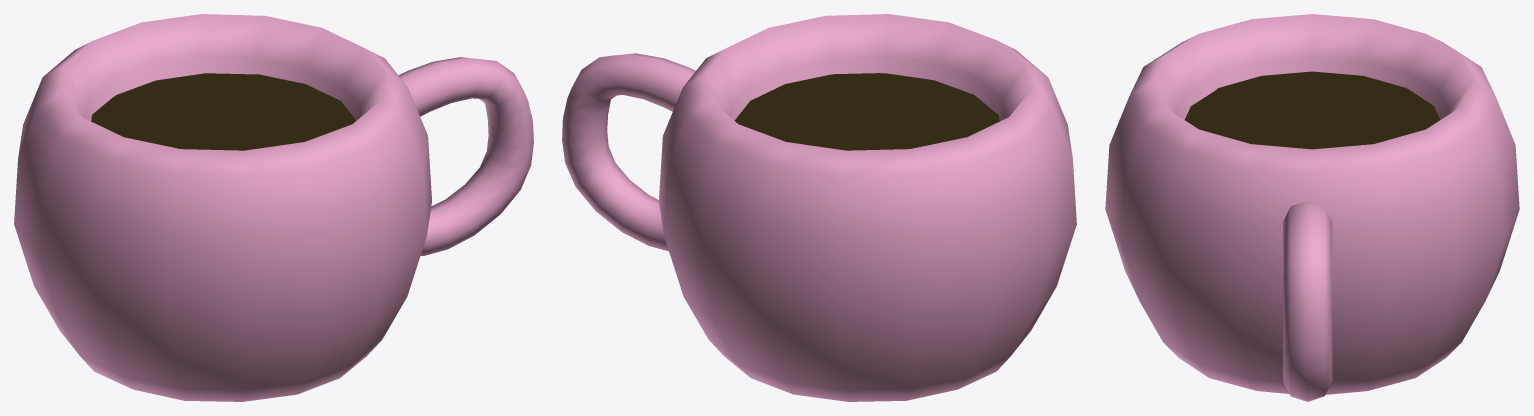
The model's file is Cupp.glb.
3 renders of one model, left to right at view 1: azimuth 30°, elevation 25°; view 2: azimuth 150°, elevation 25°; view 3: azimuth 270°, elevation 25°, orthographic.
Parts seen in each view (by area): view 1: Cupp, Circle.005; view 2: Cupp, Circle.005; view 3: Cupp, Circle.005.
Part boxes in pixels (x1,y1,x2,y2): Cupp: (14, 14, 431, 401); Circle.005: (398, 57, 533, 255); Cupp: (659, 14, 1076, 401); Circle.005: (562, 53, 695, 251); Cupp: (1105, 14, 1519, 394); Circle.005: (1282, 201, 1332, 401).
Size of the model in its own units: 0.1963 by 0.1003 by 0.1472.
